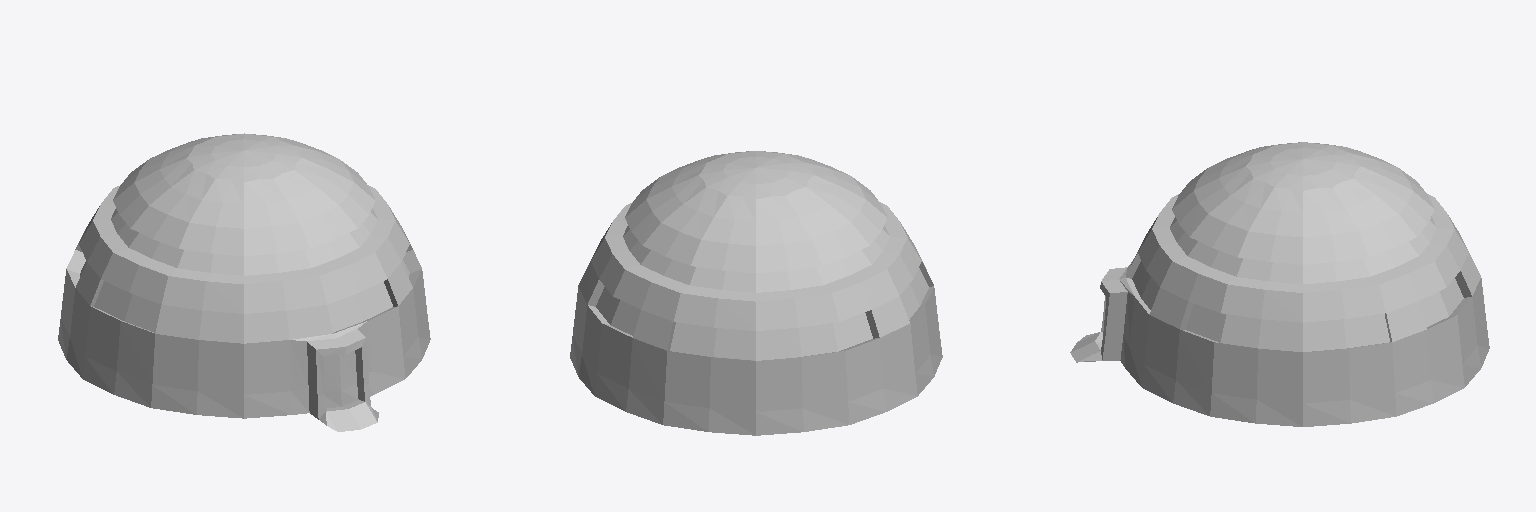
Rendered from Building5.obj.
The picture shows the model from 3 angles: view 1: azimuth 30°, elevation 25°; view 2: azimuth 150°, elevation 25°; view 3: azimuth 270°, elevation 25°; orthographic projection.
Parts seen in each view (by area): view 1: Building5_Sphere; view 2: Building5_Sphere; view 3: Building5_Sphere.
Boxes of the visible parts, x1=… form: Building5_Sphere: x1=58, y1=133, x2=430, y2=431; Building5_Sphere: x1=570, y1=151, x2=942, y2=435; Building5_Sphere: x1=1070, y1=142, x2=1489, y2=426.
Bounding box in the file's own units: 15.02 × 8.61 × 16.9.